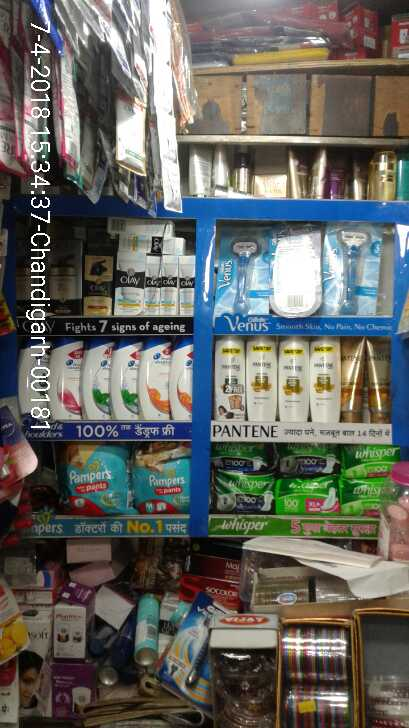venus: (322, 221, 384, 317), (212, 222, 269, 316), (268, 221, 322, 316)
